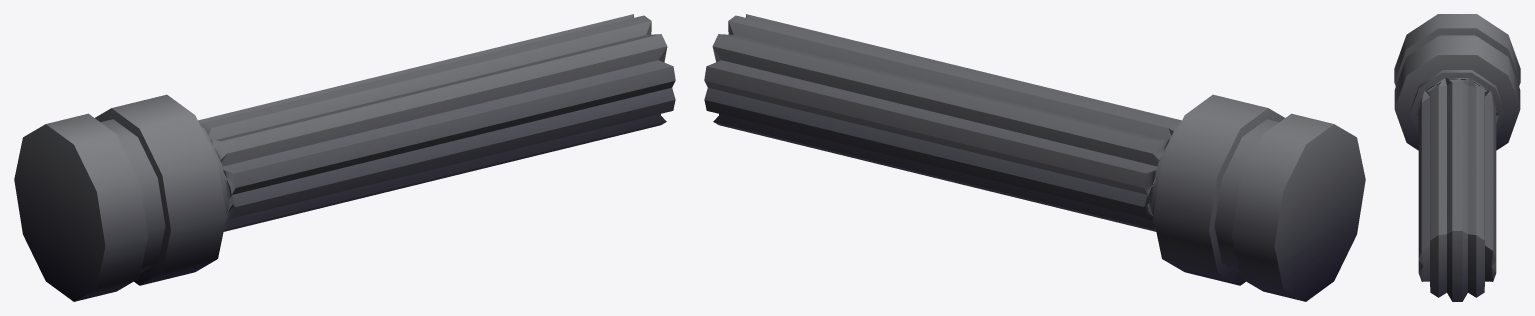
The model's file is Pantheon_ColumnaBig_003.fbx.
3 renders of one model, left to right at view 1: azimuth 30°, elevation 25°; view 2: azimuth 150°, elevation 25°; view 3: azimuth 270°, elevation 25°, orthographic. The views are drawn at different scales.
Visible parts, largest first — view 1: Pantheon_ColumnaBig_003; view 2: Pantheon_ColumnaBig_003; view 3: Pantheon_ColumnaBig_003.
Boxes of the visible parts, x1,y1,x2,y2 form: Pantheon_ColumnaBig_003: [14, 14, 675, 301]; Pantheon_ColumnaBig_003: [704, 14, 1365, 301]; Pantheon_ColumnaBig_003: [1394, 14, 1520, 301].
Size of the model in its own units: 47.33 by 12.1 by 12.72.
